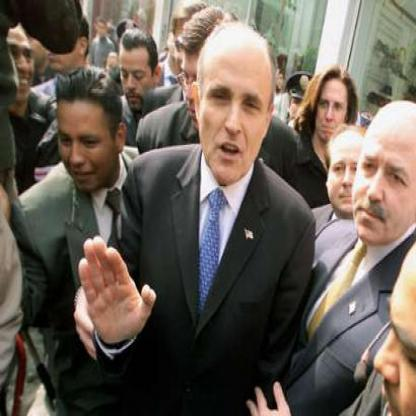face: (201, 34, 272, 184), (55, 78, 116, 194), (326, 130, 372, 217), (1, 19, 40, 105), (118, 34, 157, 114), (316, 76, 350, 146)
